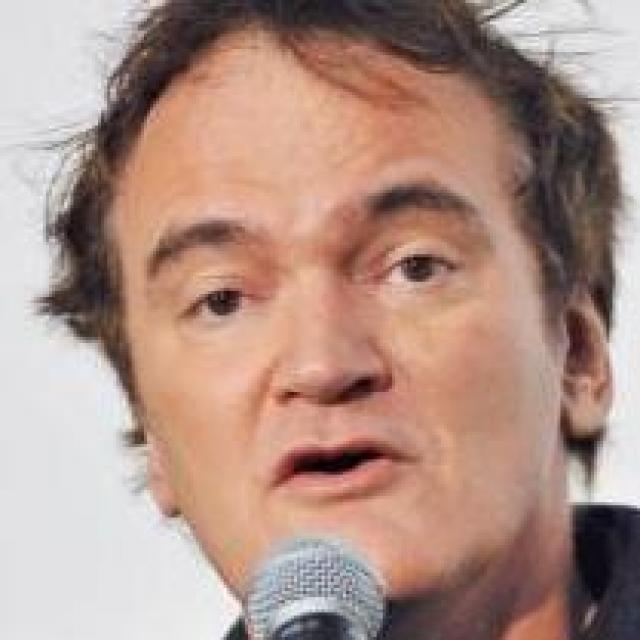surprised: (156, 46, 573, 594)
